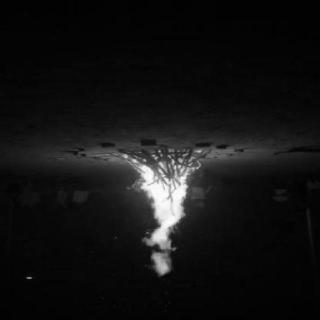Fire: (122, 155, 214, 279)
